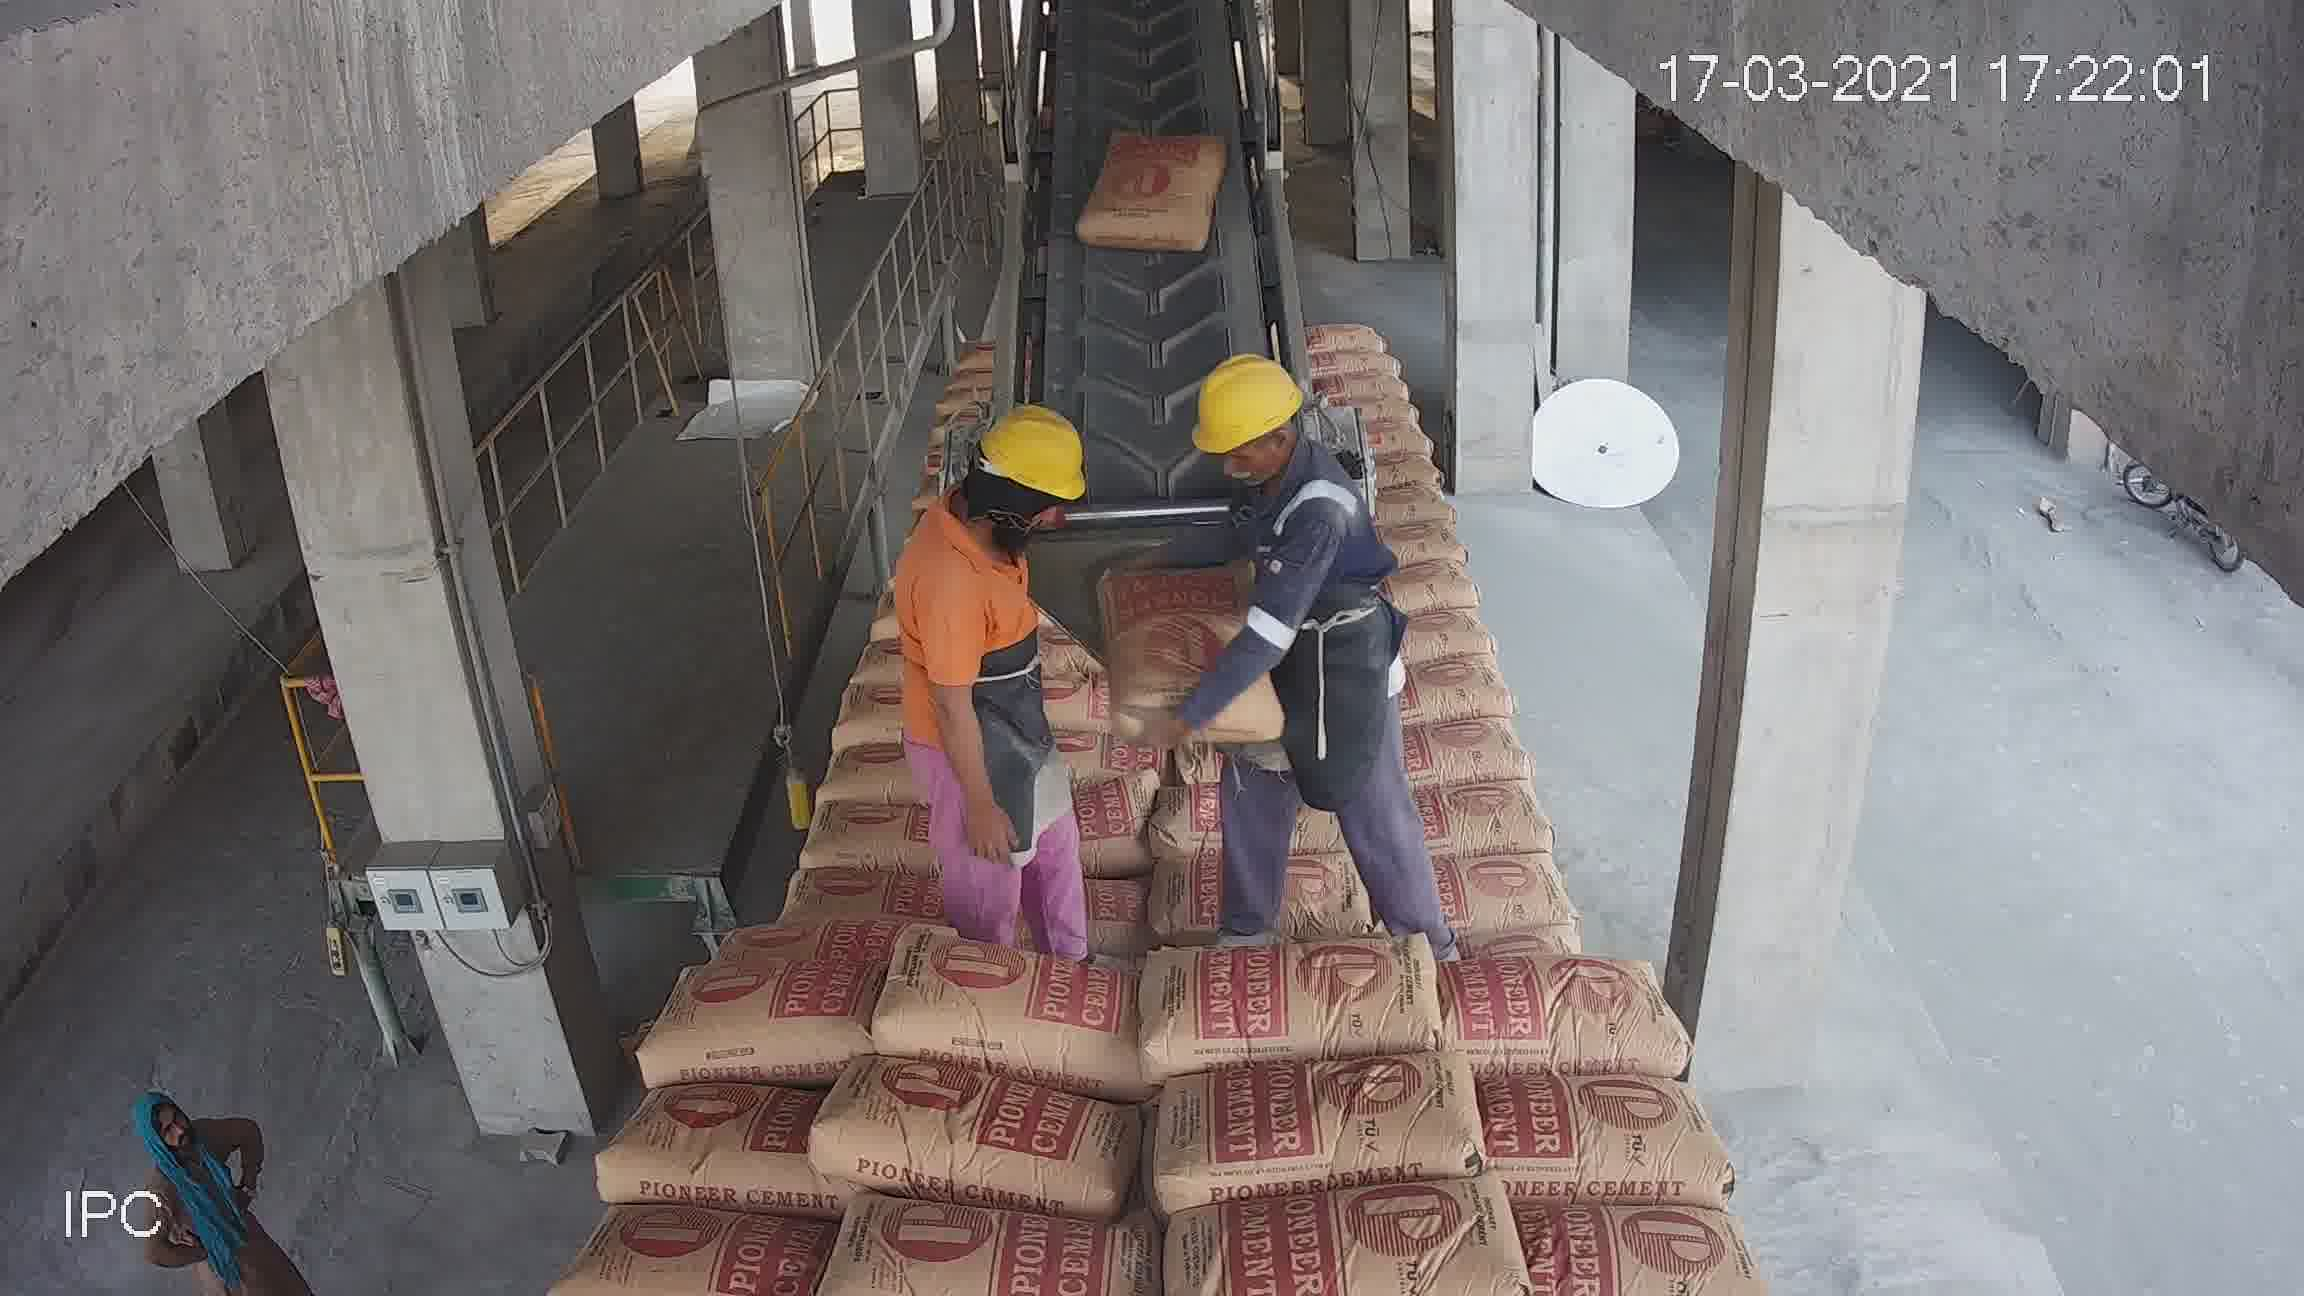bag: (1089, 187, 1211, 315), (1090, 369, 1198, 495), (1081, 55, 1199, 166)
bag_h: (1147, 1155, 1537, 1296), (1128, 1052, 1492, 1173), (1130, 929, 1431, 1060), (630, 946, 894, 1084), (820, 1086, 1135, 1199), (1146, 836, 1424, 954), (802, 1209, 1146, 1294), (897, 954, 1138, 1074), (1150, 729, 1393, 845), (1457, 940, 1662, 1071), (1489, 1086, 1728, 1196), (880, 853, 1135, 946), (1413, 853, 1617, 957), (902, 755, 1138, 845), (676, 864, 878, 968), (1544, 1199, 1750, 1296), (609, 1098, 813, 1195), (576, 1225, 840, 1282), (1400, 760, 1597, 836), (1355, 641, 1506, 722), (725, 791, 904, 859), (1324, 510, 1470, 589), (1332, 600, 1492, 660), (1336, 552, 1476, 620), (1400, 704, 1525, 766), (1070, 663, 1176, 731), (1298, 479, 1472, 519), (771, 737, 911, 782), (829, 684, 943, 736), (1310, 453, 1446, 495), (1290, 419, 1415, 465), (1044, 582, 1192, 619), (1070, 636, 1173, 668)
belt: (1010, 17, 1285, 510)
